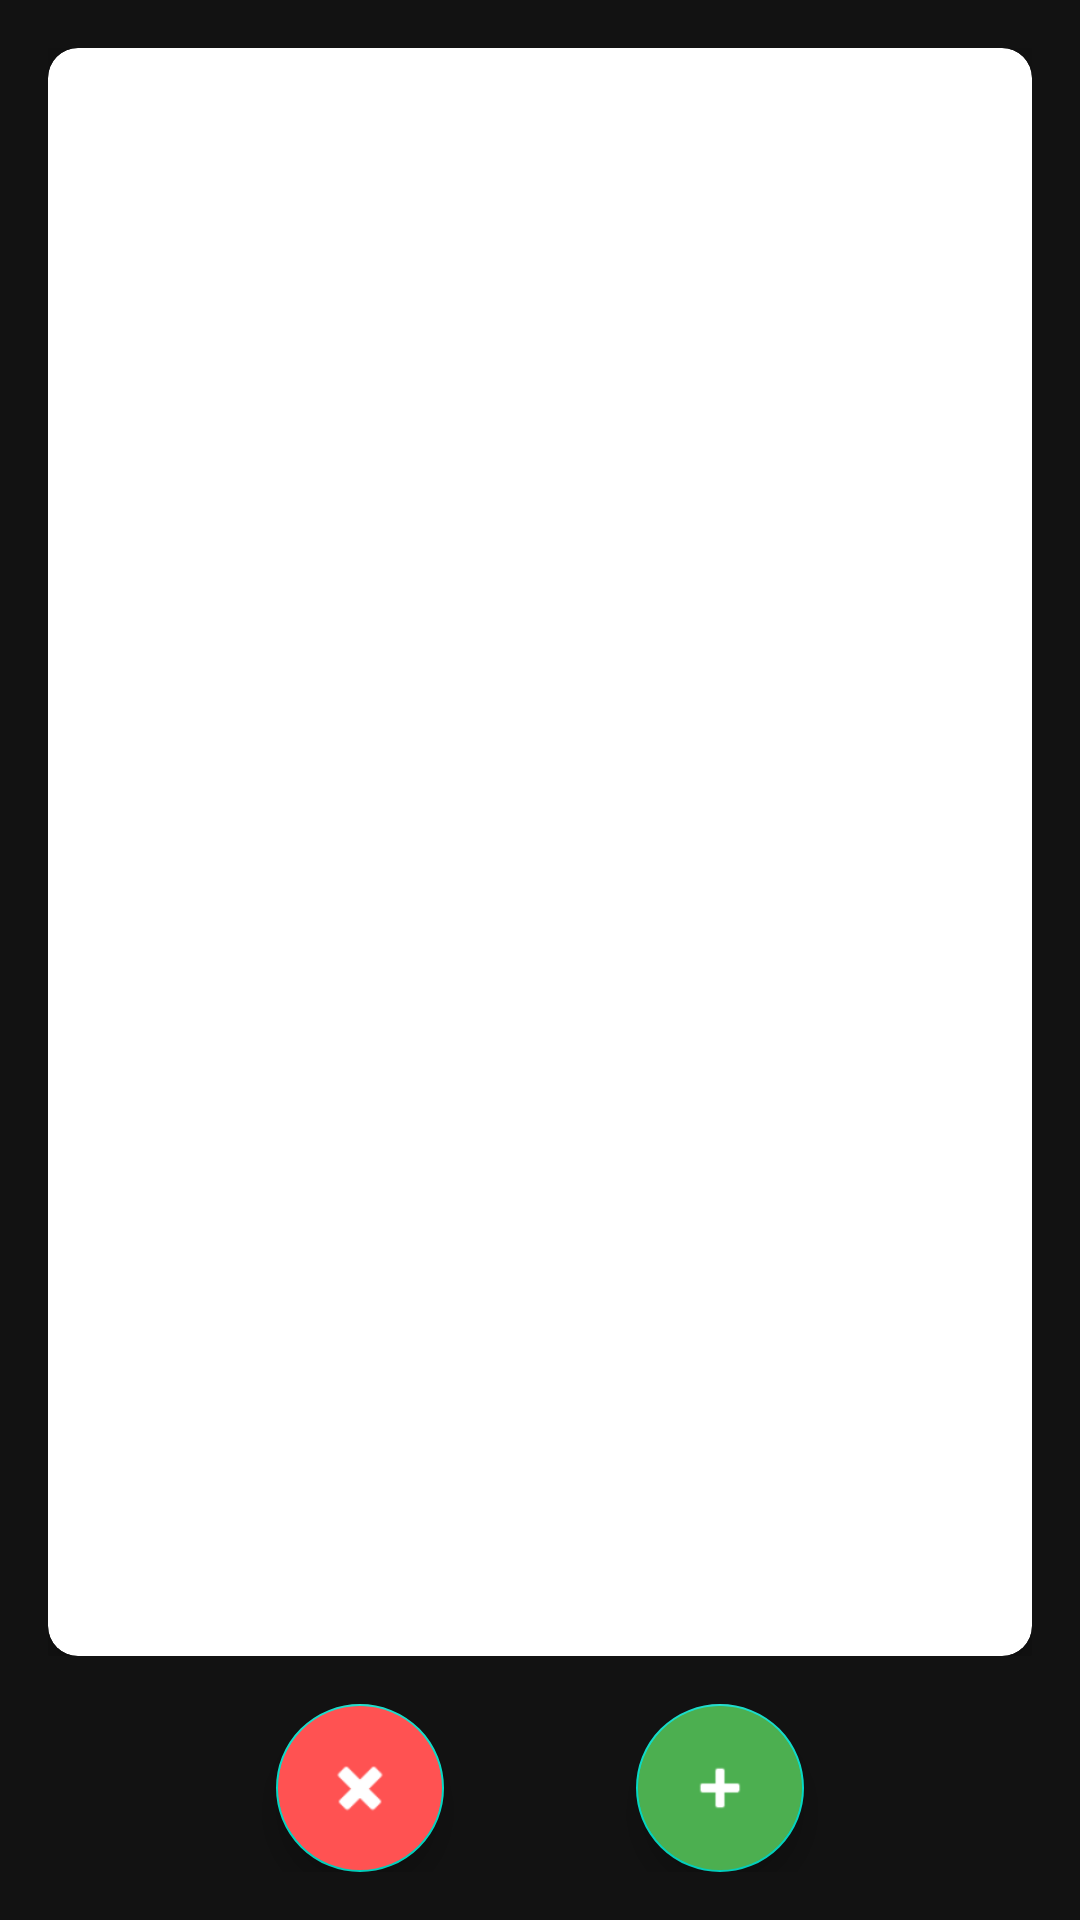

Locate icon controls on the screen. Image size 1080w x 1920h, boxes as (x1, y1, x2, y2).
add: (636, 1704, 804, 1872)
delete: (276, 1704, 444, 1872)
